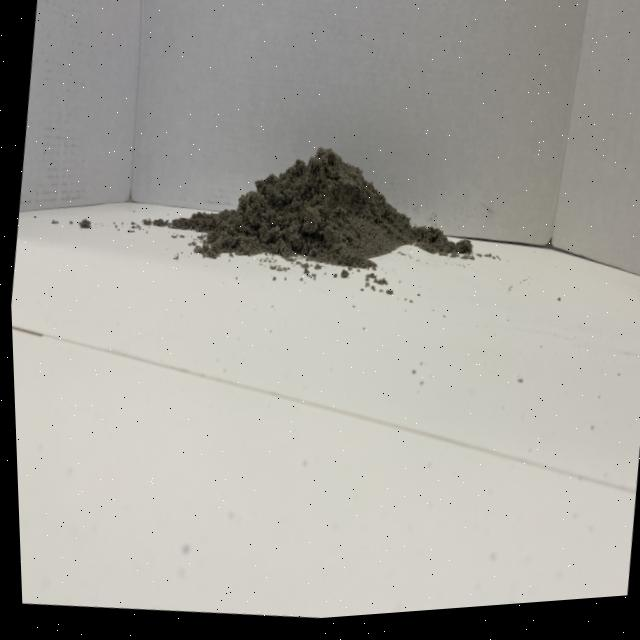sand: (170, 109, 447, 288)
